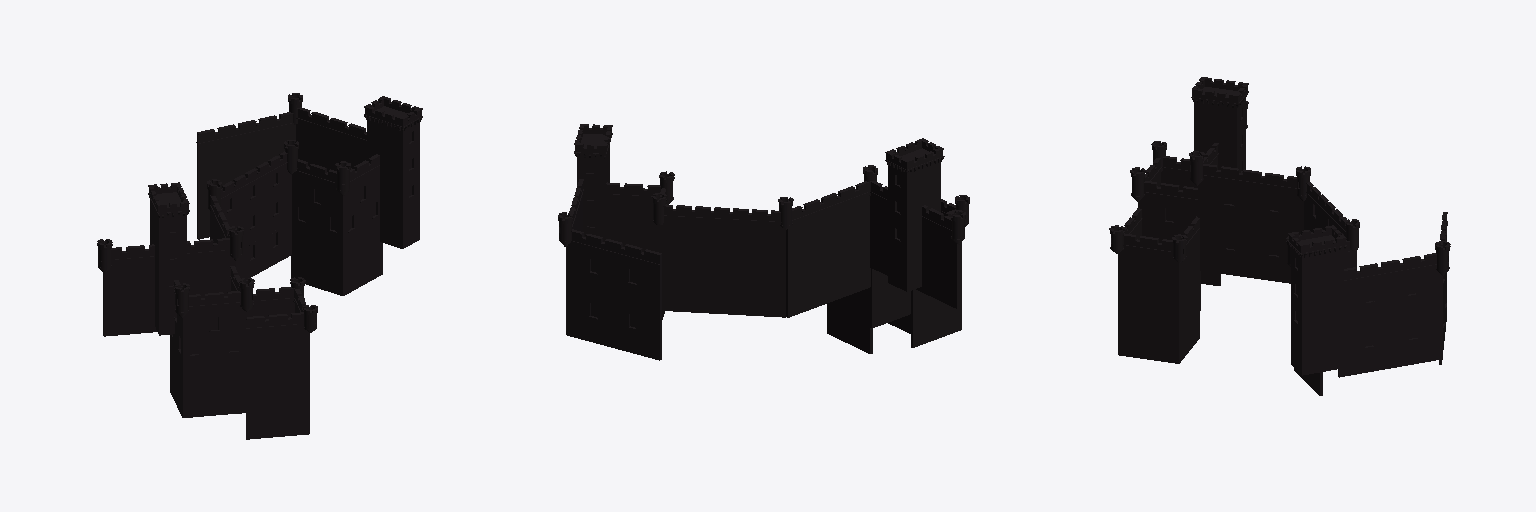
File: castle.obj
The picture shows the model from 3 angles: view 1: azimuth 30°, elevation 25°; view 2: azimuth 150°, elevation 25°; view 3: azimuth 270°, elevation 25°; orthographic projection.
Parts seen in each view (by area): view 1: Castle.003_Castle.001; view 2: Castle.003_Castle.001; view 3: Castle.003_Castle.001.
Part boxes in pixels (bbox=[...]): Castle.003_Castle.001: bbox=[97, 93, 422, 439]; Castle.003_Castle.001: bbox=[558, 124, 969, 360]; Castle.003_Castle.001: bbox=[1109, 77, 1450, 395].
Size of the model in its own units: 7.83 by 4.74 by 6.52.